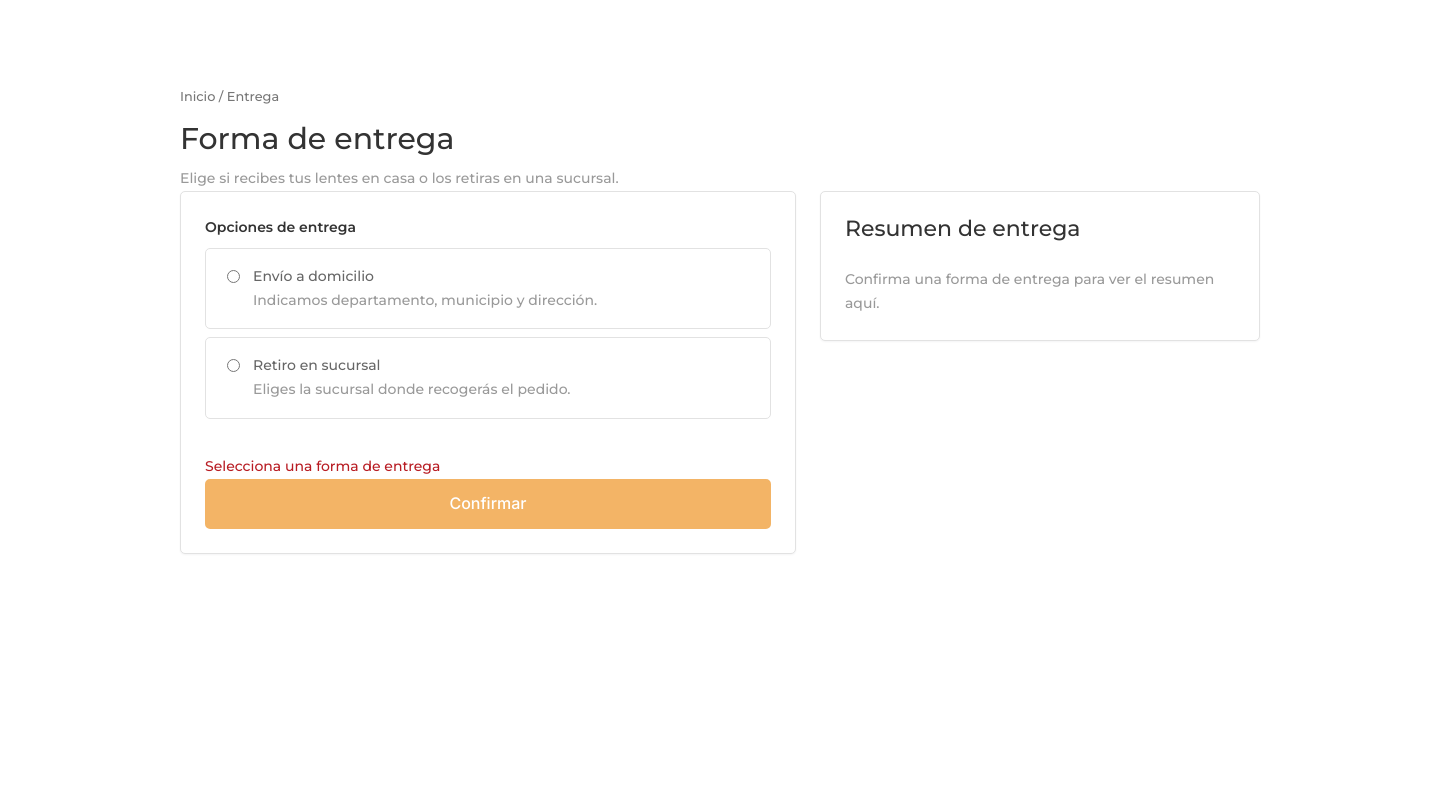
DeliveryOptionsPage › muestra los campos de domicilio y oculta sucursal
This screenshot has width=1440, height=810.
expect the heading "Forma de entrega" is shown: met, box [180, 120, 454, 157]
expect the heading "Resumen de entrega" is shown: met, box [845, 215, 1080, 242]
What coordinates should you click on to do the following:
click the radio button labelled "Envío a domicilio"
I would click on:
 (234, 276)
Its box is [227, 270, 240, 283].
(page scrolled)
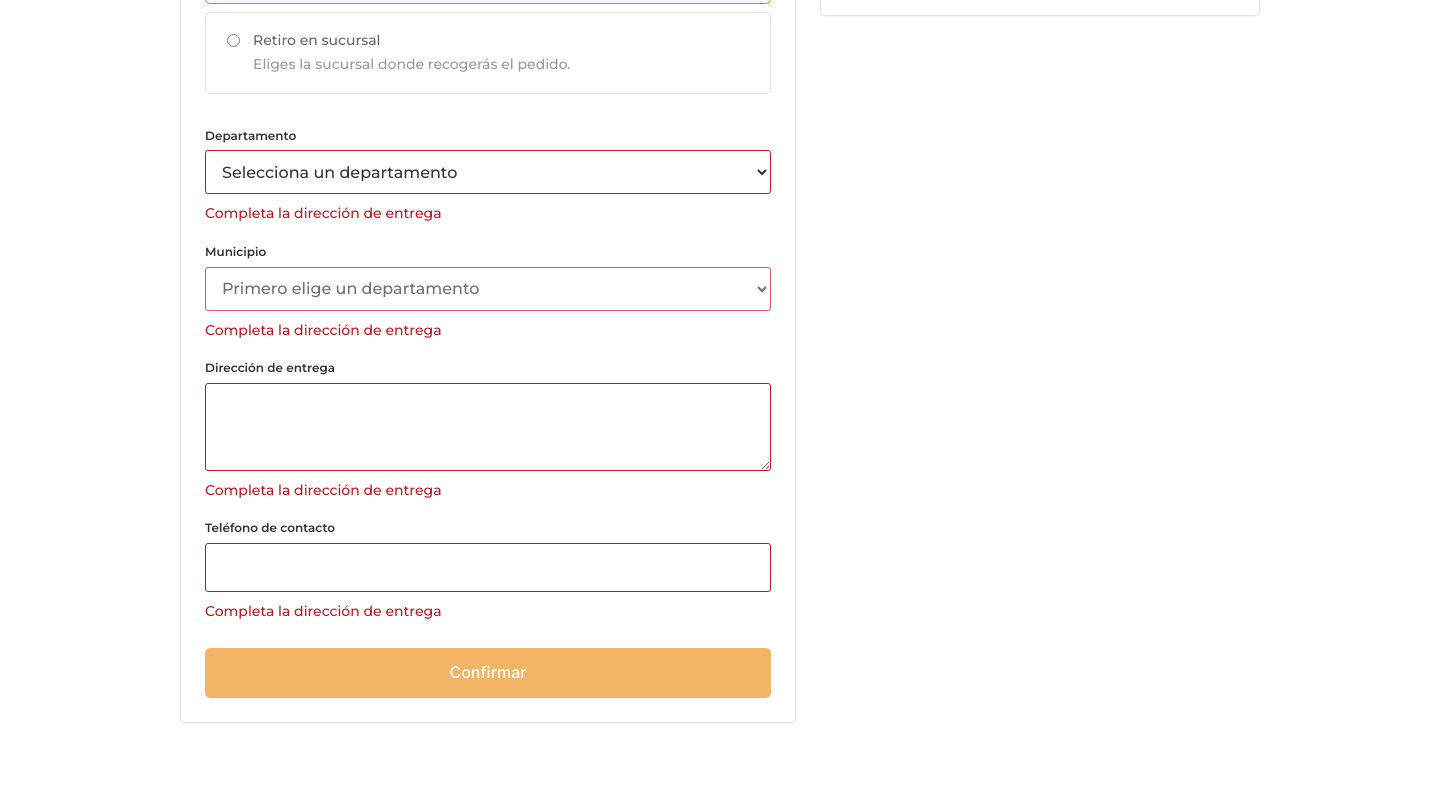
expect the dropdown labelled "Departamento" is shown: met, box [205, 150, 771, 194]
expect the dropdown labelled "Municipio" is shown: met, box [205, 266, 771, 310]
expect the text box labelled "Dirección de entrega" is shown: met, box [205, 383, 771, 471]
